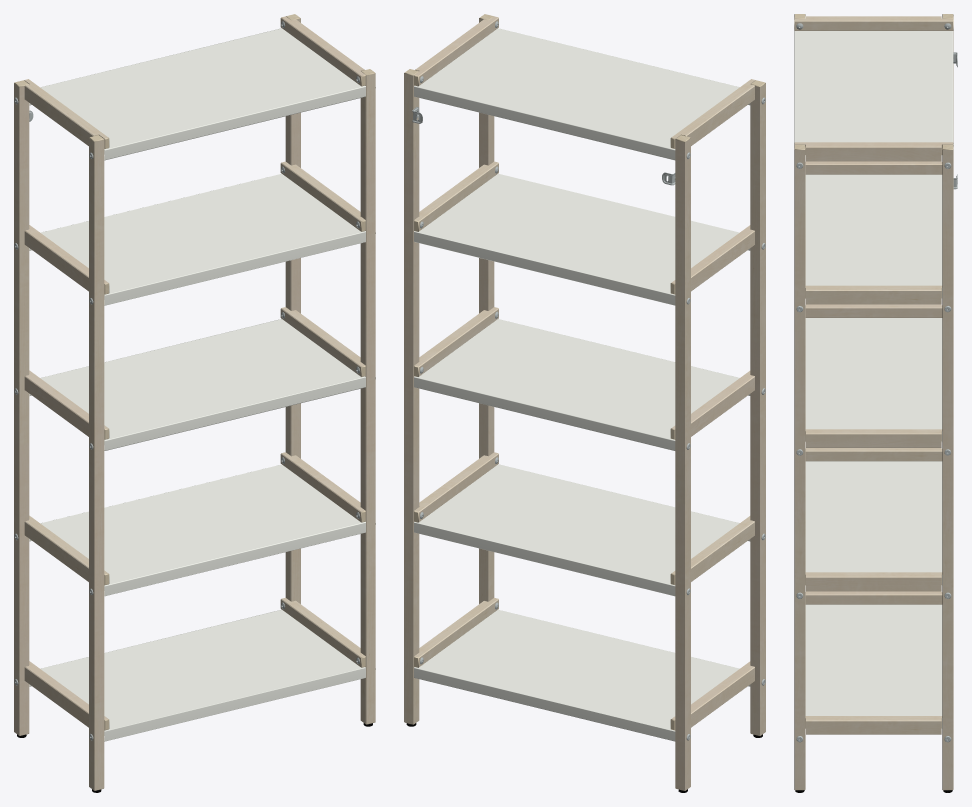
Rendered from ekenabben_open_shelf_unit_aspen_white.glb.
3 views of the same model, side by side, from view 1: azimuth 30°, elevation 25°; view 2: azimuth 150°, elevation 25°; view 3: azimuth 270°, elevation 25° (orthographic).
Parts seen in each view (by area): view 1: Mesh_0; view 2: Mesh_0; view 3: Mesh_0.
Part boxes in pixels (x1=…): Mesh_0: x1=14, y1=14, x2=375, y2=792; Mesh_0: x1=404, y1=14, x2=765, y2=792; Mesh_0: x1=794, y1=14, x2=957, y2=792.
Size of the model in its own units: 0.6991 by 1.54 by 0.3537.
1 material, 1 textured.
